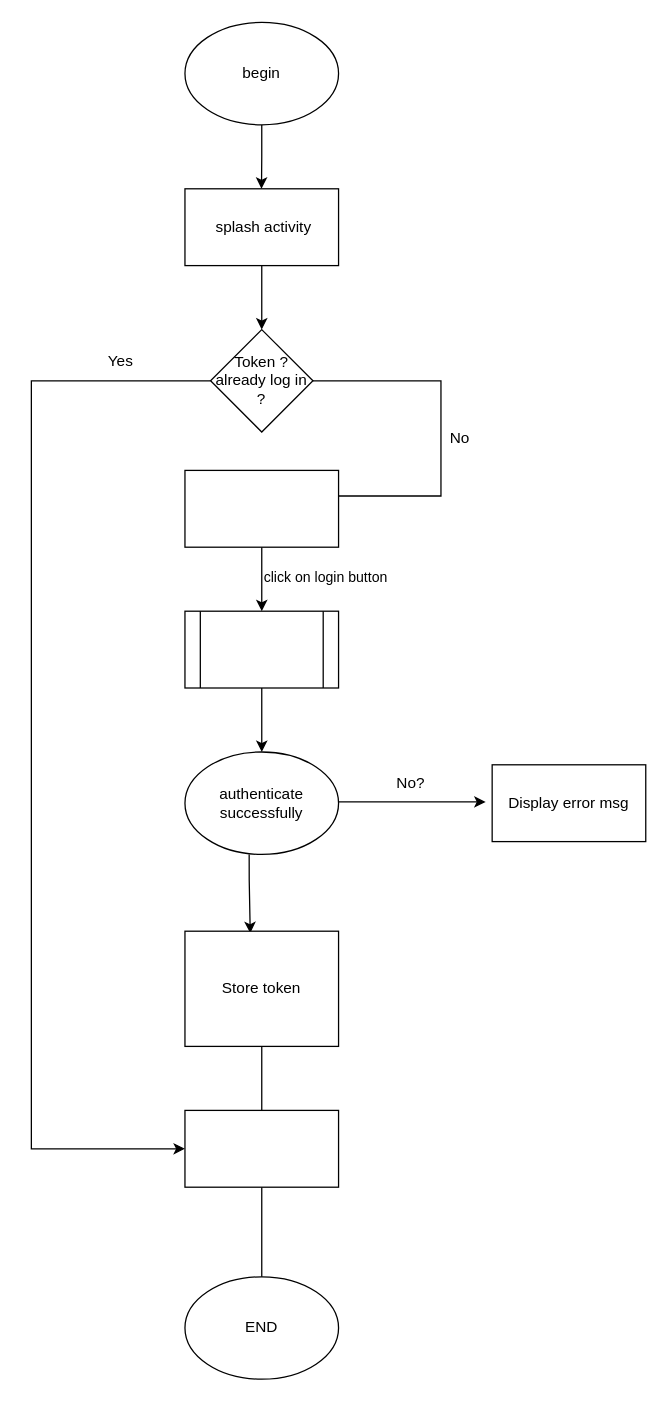
Some shapes in this 668 by 1402 pixel diagram are drawn without their labels. Each missing label, with the box of its shape:
Display Login Screen: (184, 469, 339, 547)
execute AuPk2 process: (184, 610, 339, 688)
Maps to main screen: (184, 1109, 339, 1187)
